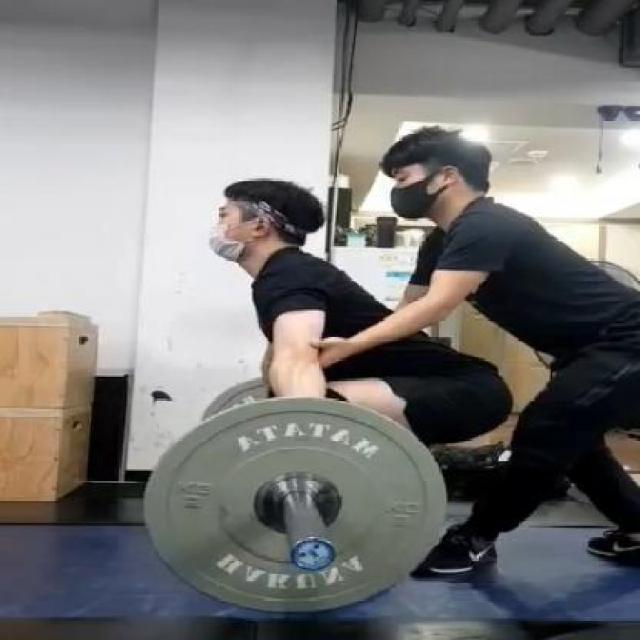Barbell: (286, 532, 339, 574)
